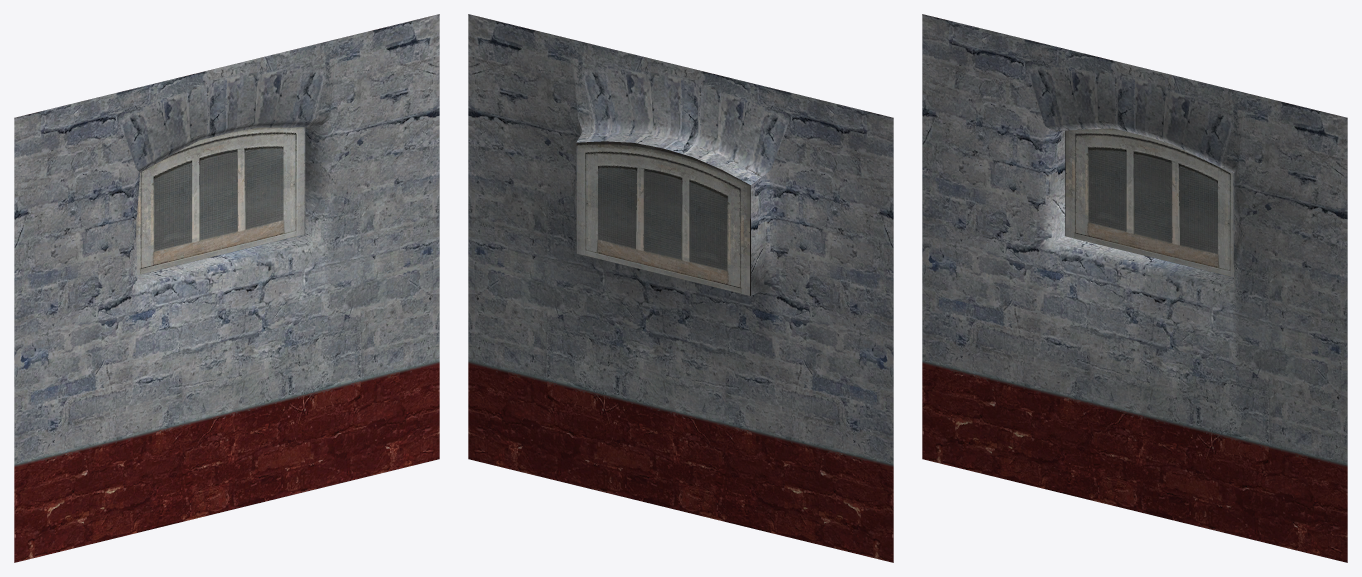
File: factory_corridor_02.DAE
The picture shows the model from 3 angles, left to right: view 1: azimuth 30°, elevation 25°; view 2: azimuth 150°, elevation 25°; view 3: azimuth 330°, elevation 25°; orthographic projection.
Parts seen in each view (by area): view 1: Object038, Object039; view 2: Object038, Object039; view 3: Object038, Object039.
Boxes of the visible parts, x1,y1,x2,y2 form: Object038: (14, 14, 439, 562); Object039: (108, 39, 336, 274); Object038: (468, 14, 893, 562); Object039: (571, 39, 799, 295); Object038: (922, 14, 1347, 562); Object039: (1016, 37, 1244, 277).
Bounding box in the file's own units: 4 × 4 × 0.2153.
